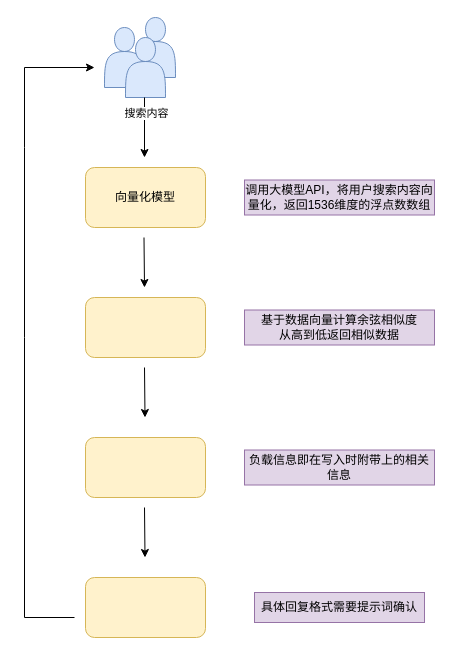
The diagram is 452 pixels wide and 655 high, and some of its shapes have lost their labels. Here are the shapes that lost their labels. From the top down, the centre of each, then its label:
At (145,327): "根据相似度搜索本地向量数据库".
At (145,467): "返回相关数据负载信息".
At (145,607): "将相关知识给到大模型，大模型组织语言回复用户".
